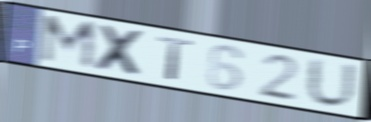2: (258, 52, 303, 103)
6: (204, 43, 249, 93)
M: (38, 13, 98, 73)
T: (156, 34, 197, 83)
U: (304, 54, 360, 111)
X: (93, 22, 148, 80)
